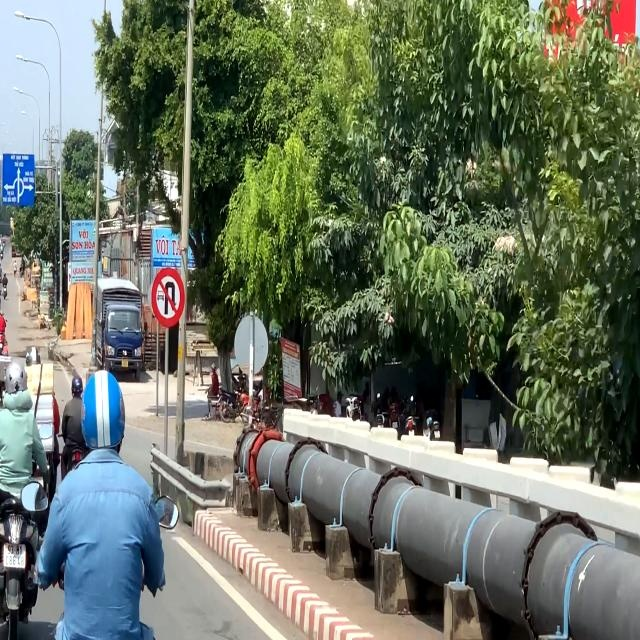bien_cam: (152, 266, 185, 326)
